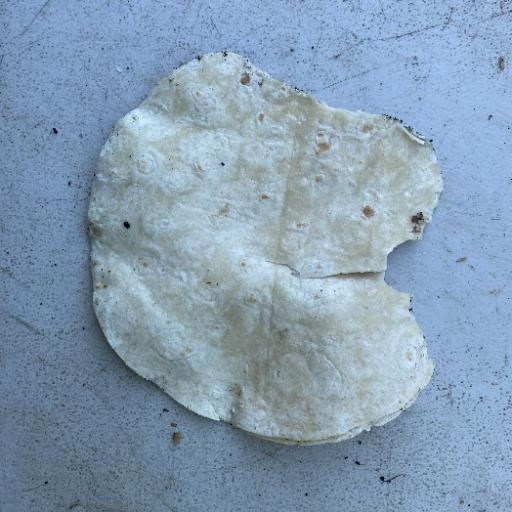Waste: (85, 50, 445, 446)
